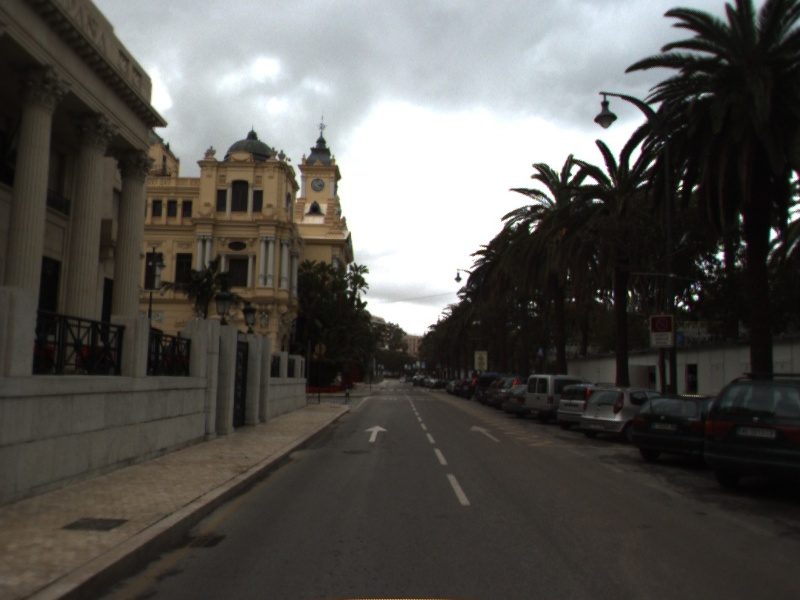STRAIGHT: (468, 423, 504, 444), (362, 423, 390, 444)
